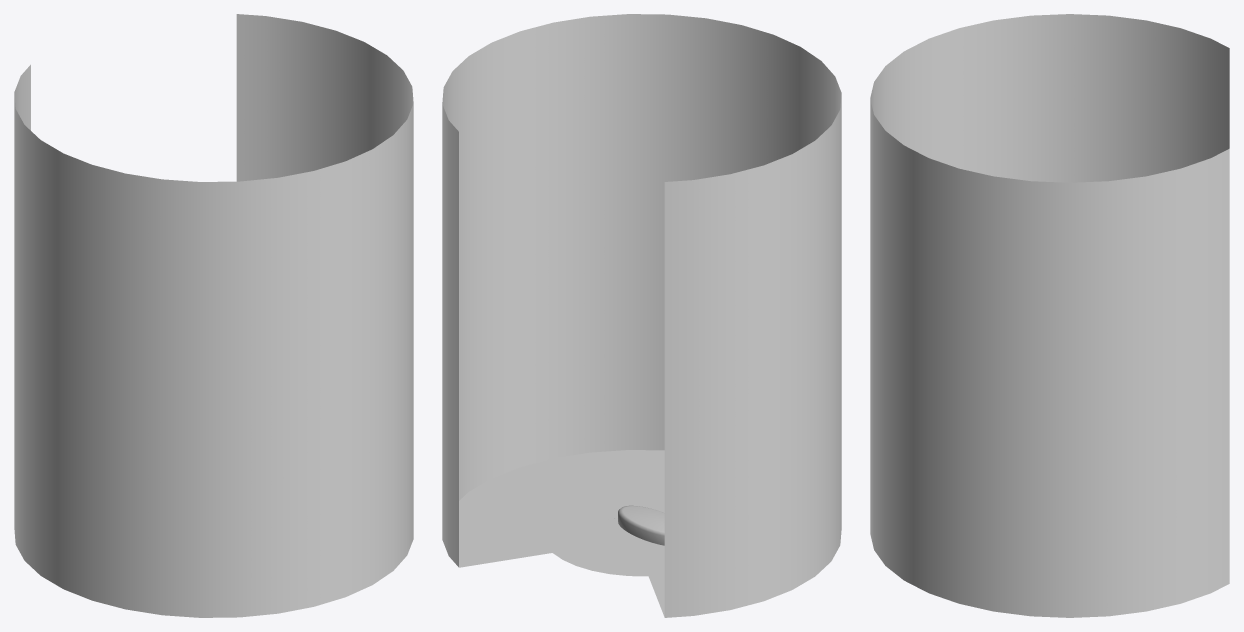
Rendered from Stage.obj.
3 renders of one model, left to right at view 1: azimuth 30°, elevation 25°; view 2: azimuth 150°, elevation 25°; view 3: azimuth 270°, elevation 25°, orthographic.
Visible parts, largest first — view 1: Stage; view 2: Stage; view 3: Stage.
Part boxes in pixels (x1,y1,x2,y2): Stage: [14, 14, 413, 617]; Stage: [442, 14, 841, 617]; Stage: [870, 14, 1229, 617].
Size of the model in its own units: 100 by 121 by 90.23.
